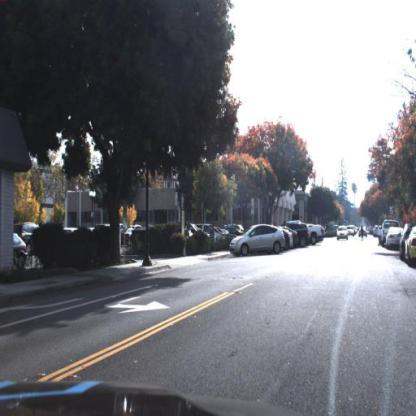car: (228, 222, 288, 259), (286, 221, 311, 248), (302, 222, 325, 247), (385, 226, 406, 251), (404, 226, 416, 267)
pedestrian: (360, 224, 366, 245)
